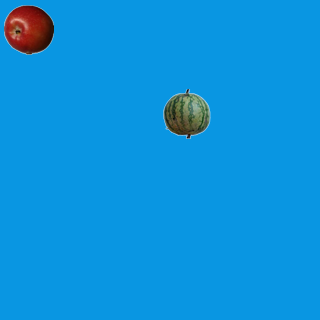Apple Braeburn: (3, 4, 53, 54)
Watermelon: (161, 88, 211, 138)
